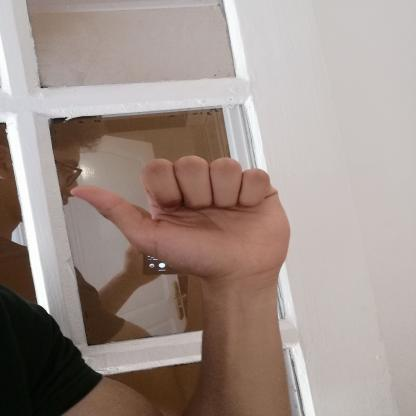DAD: (55, 148, 302, 291)
